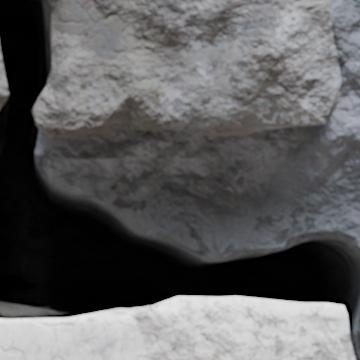brick: (0, 297, 354, 359)
broken_brick: (34, 0, 341, 140), (0, 58, 7, 98)
crack: (0, 0, 359, 357)
